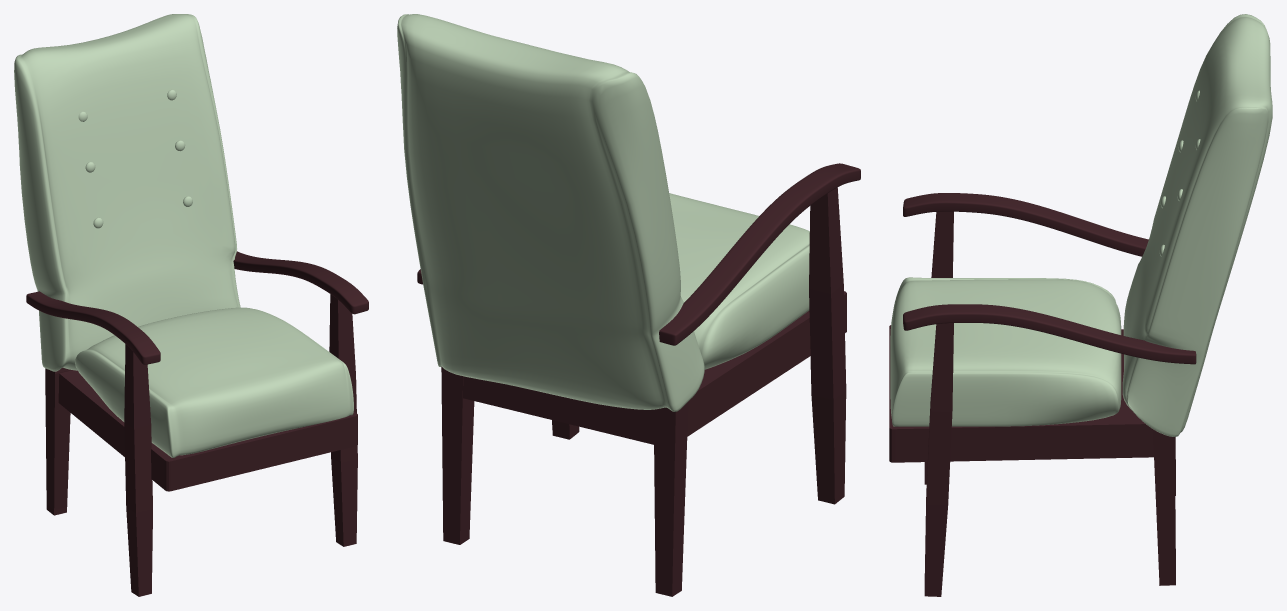
The model's file is Armchair 01.dae.
3 renders of one model, left to right at view 1: azimuth 30°, elevation 25°; view 2: azimuth 150°, elevation 25°; view 3: azimuth 270°, elevation 25°, orthographic. The views are drawn at different scales.
Visible parts, largest first — view 1: Cube_011; view 2: Cube_011; view 3: Cube_011.
Part boxes in pixels (x1=…): Cube_011: x1=14, y1=14, x2=368, y2=596; Cube_011: x1=397, y1=14, x2=860, y2=596; Cube_011: x1=889, y1=14, x2=1272, y2=596.
Bounding box in the file's own units: 0.7529 × 0.9884 × 1.37.
